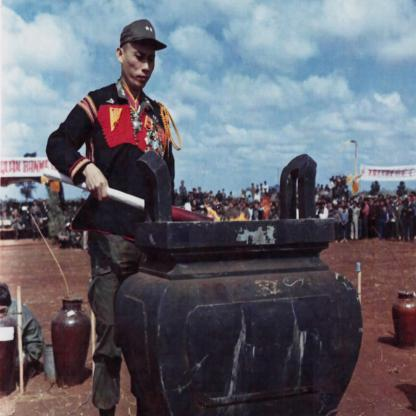vase: (50, 293, 90, 385)
